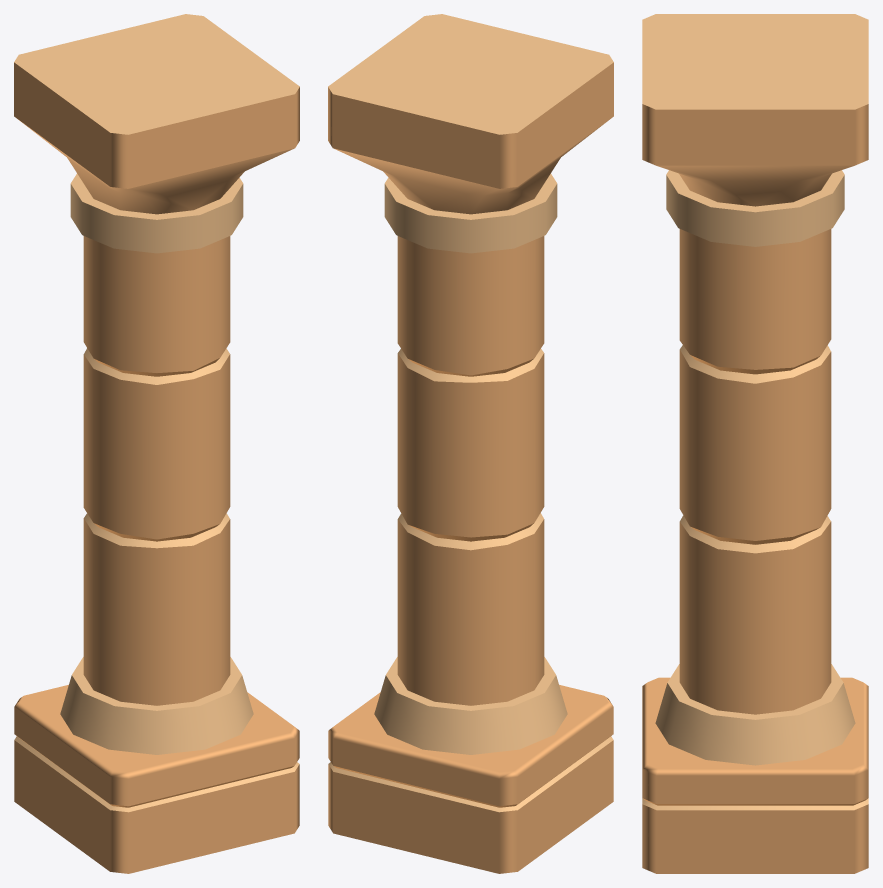
The model's file is Column.fbx.
The picture shows the model from 3 angles, left to right: view 1: azimuth 30°, elevation 25°; view 2: azimuth 150°, elevation 25°; view 3: azimuth 270°, elevation 25°; orthographic projection. The views are drawn at different scales.
Visible parts, largest first — view 1: Column_Under, Column_Top; view 2: Column_Under, Column_Top; view 3: Column_Under, Column_Top.
Boxes of the visible parts, <box> form: Column_Under: <box>14,348,299,873</box>; Column_Top: <box>14,14,299,376</box>; Column_Under: <box>328,349,613,873</box>; Column_Top: <box>328,14,613,376</box>; Column_Under: <box>642,345,868,873</box>; Column_Top: <box>642,14,868,374</box>.
Bounding box in the file's own units: 2.99 × 11.14 × 2.99.
